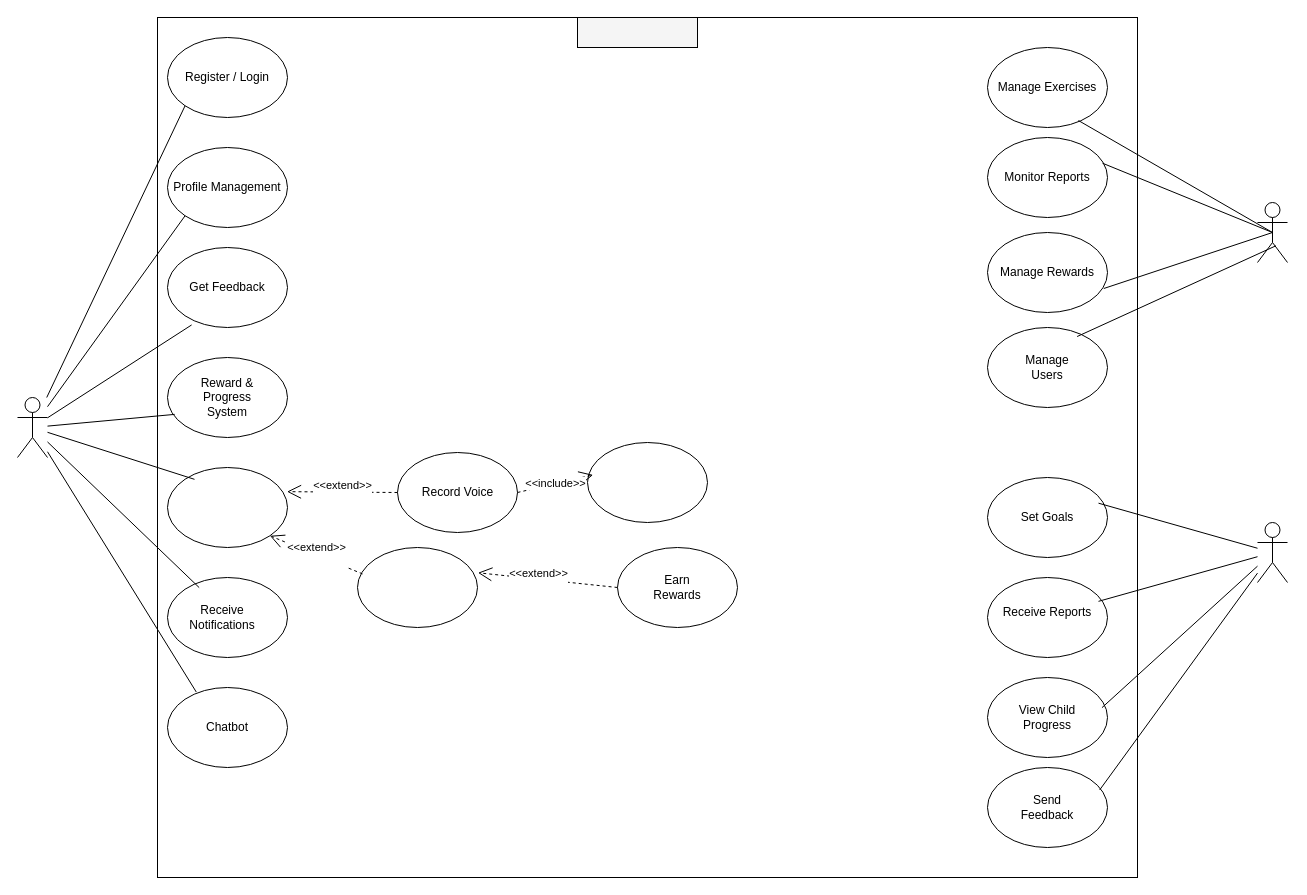
Some shapes in this 1307 by 895 pixel diagram are drawn without their labels. Here are the shapes that lost their labels. From the top down, the box of each, then its label:
(576, 16, 698, 48): Articulearn System
(1256, 202, 1288, 262): Admin
(16, 396, 48, 458): User
(586, 442, 708, 522): Analyze Pronunciation
(166, 466, 288, 548): Browse Exercises
(1256, 522, 1288, 582): Parent
(356, 546, 478, 628): Play Games
